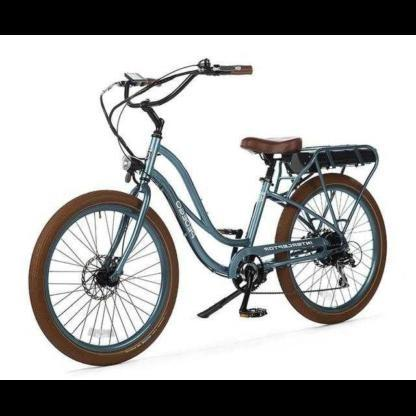Bicycle: (11, 45, 406, 362)
